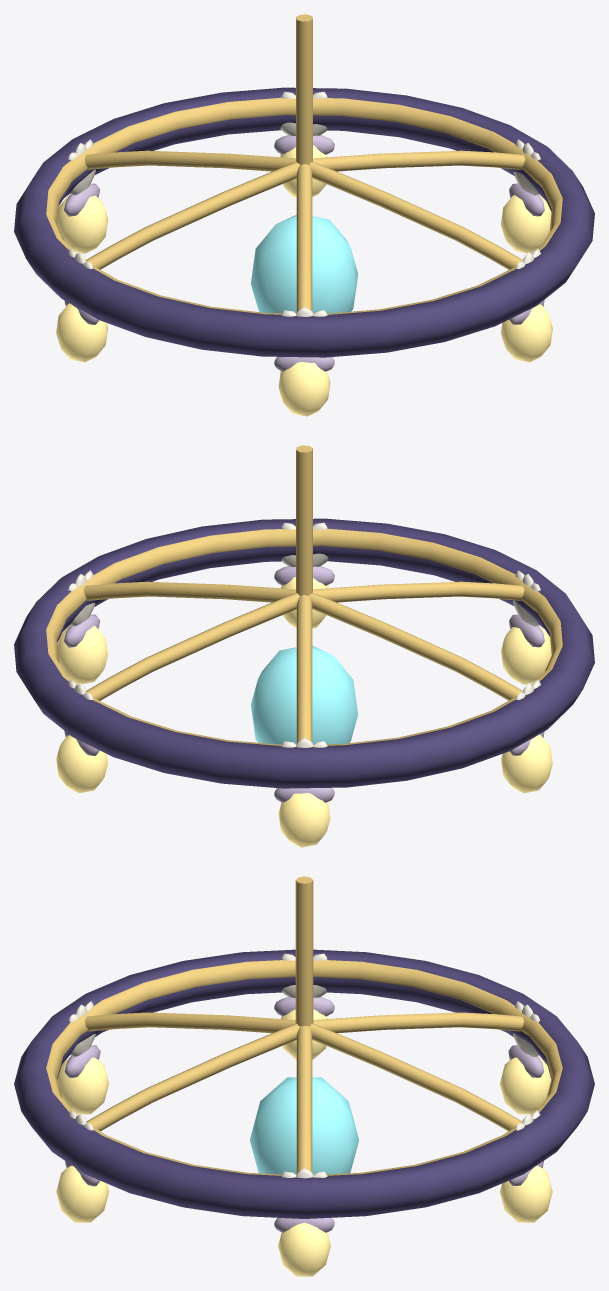
Rendered from pearl_shell_chandelier.glb.
The picture shows the model from 3 angles, top to bottom: view 1: azimuth 30°, elevation 25°; view 2: azimuth 150°, elevation 25°; view 3: azimuth 270°, elevation 25°; orthographic projection.
Visible parts, largest first — view 1: pearl_shell_chandelier.001; view 2: pearl_shell_chandelier.001; view 3: pearl_shell_chandelier.001.
Boxes of the visible parts, bbox=[...] form: pearl_shell_chandelier.001: bbox=[14, 14, 594, 416]; pearl_shell_chandelier.001: bbox=[14, 445, 594, 847]; pearl_shell_chandelier.001: bbox=[14, 876, 594, 1276].
Bounding box in the file's own units: 6.58 × 4.03 × 6.58.
